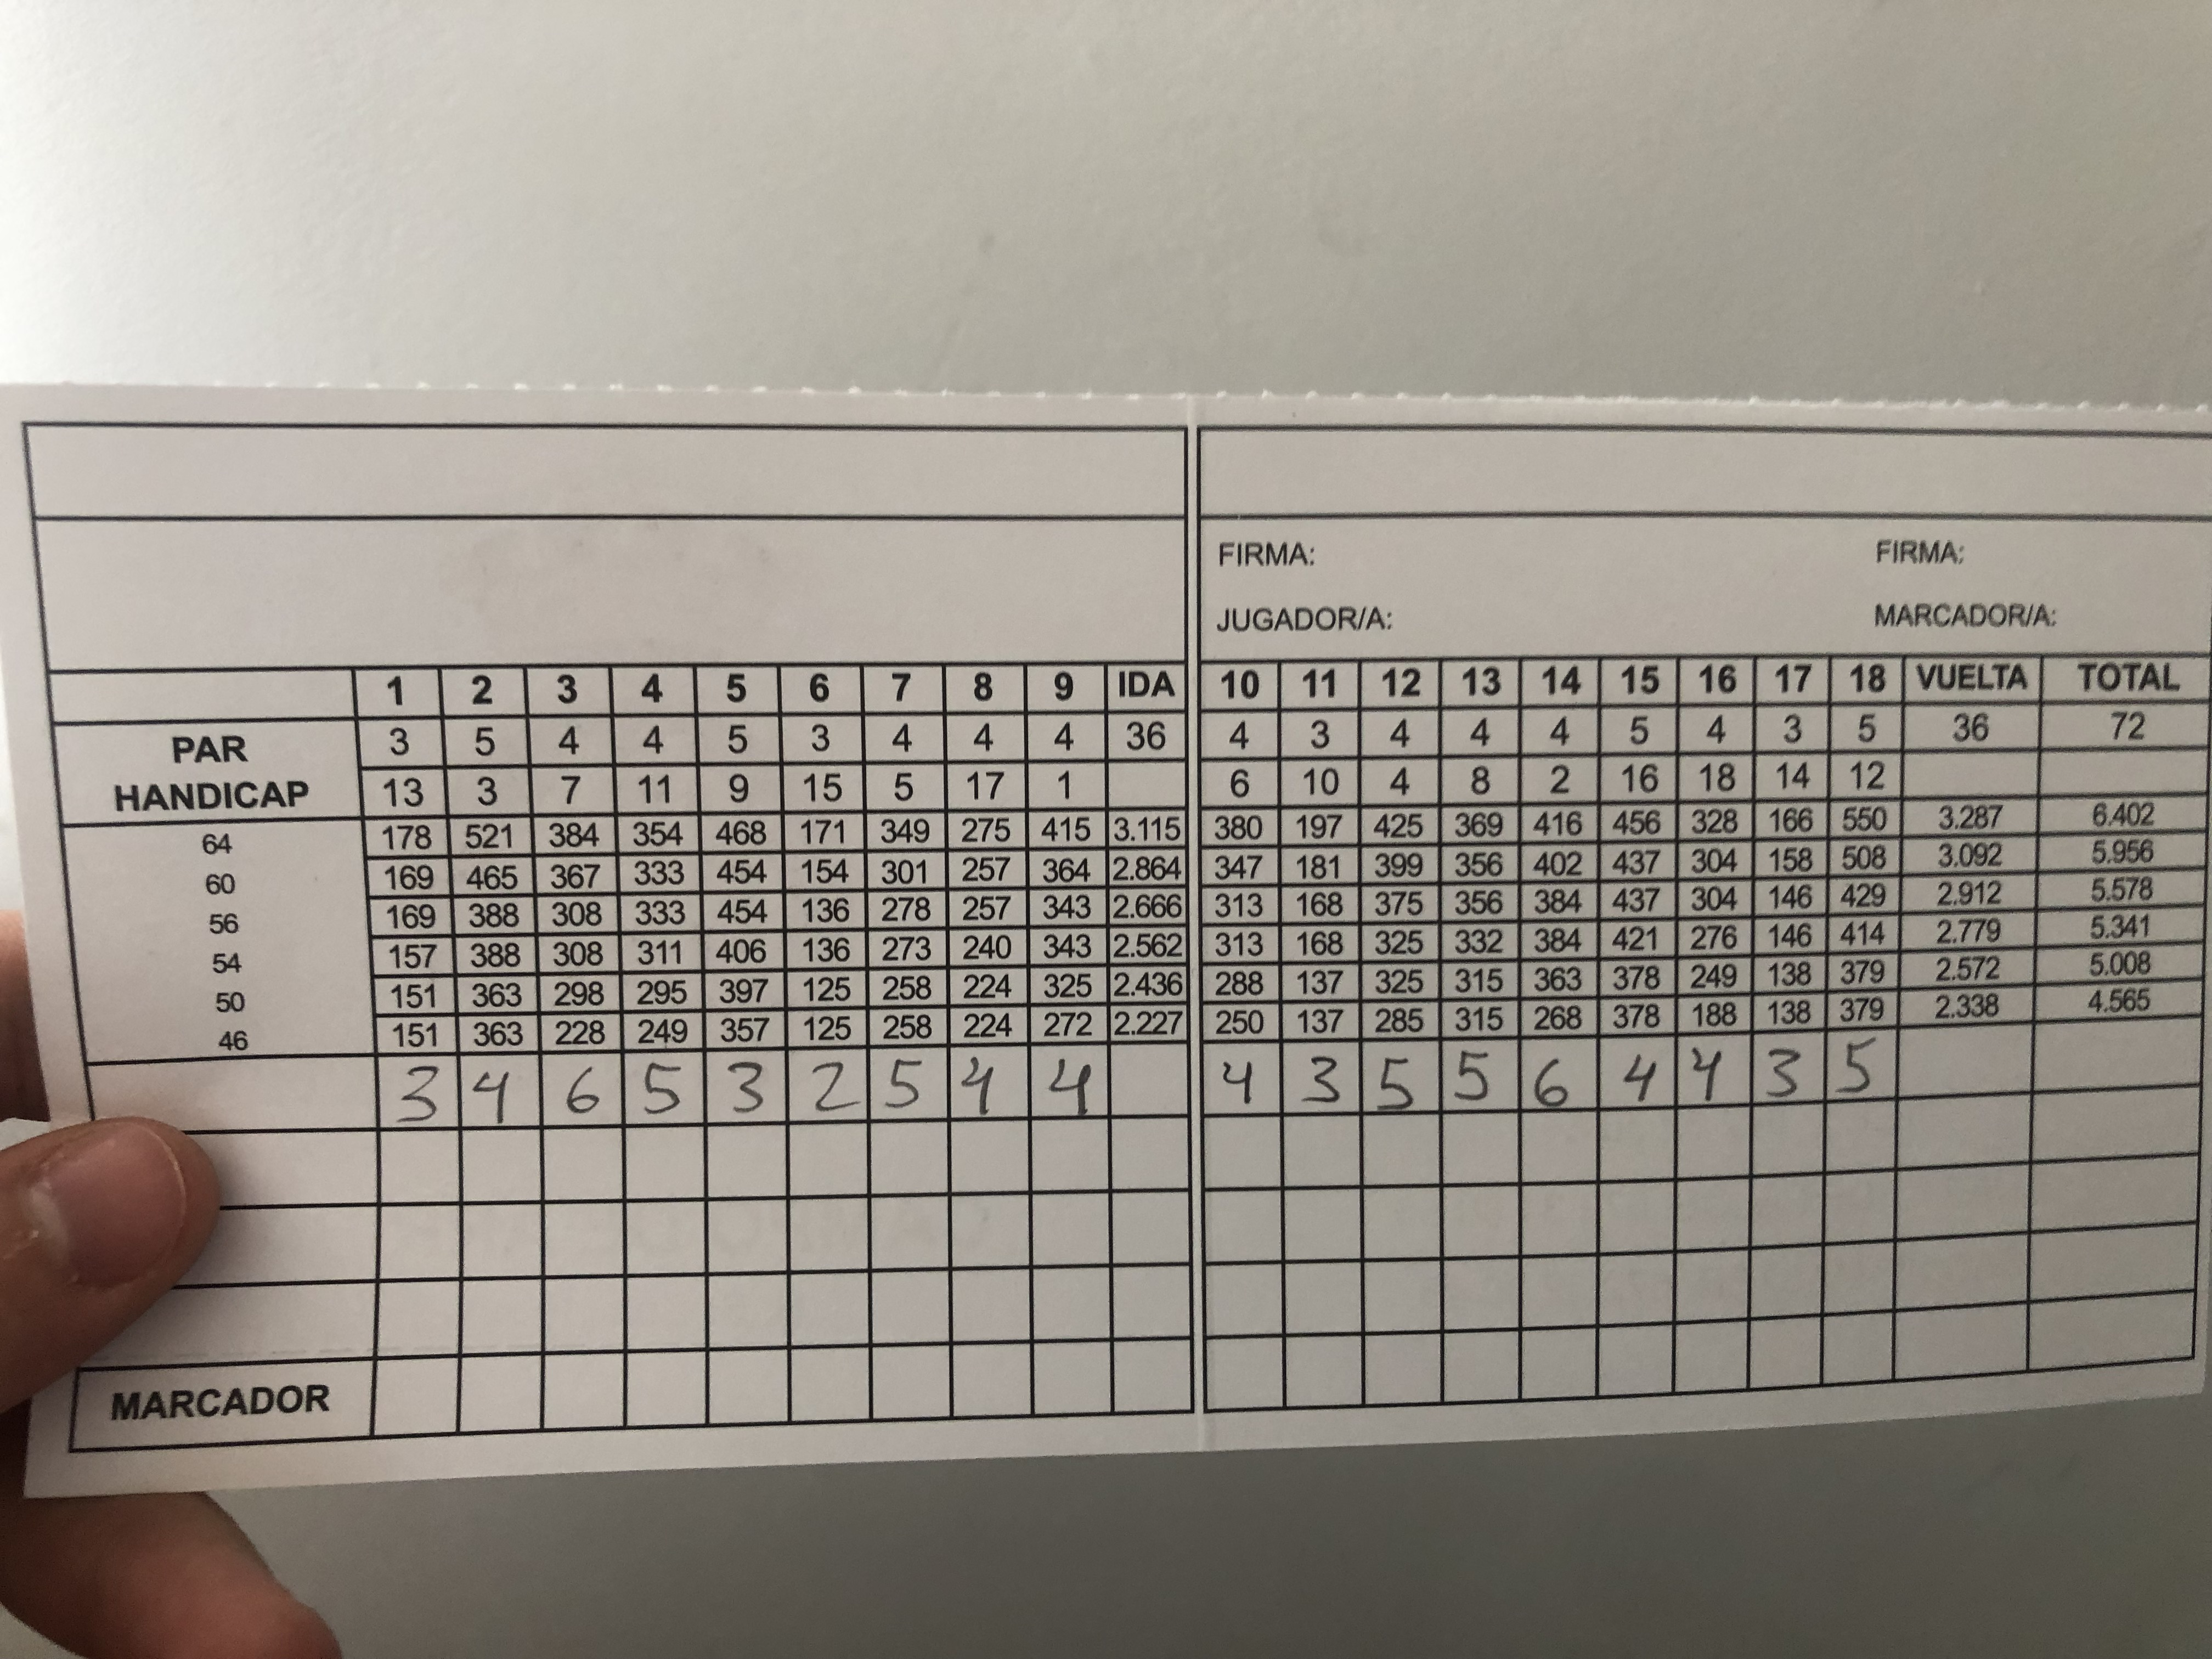par: (129, 711, 2182, 767)
score: (373, 1046, 1902, 1122)
